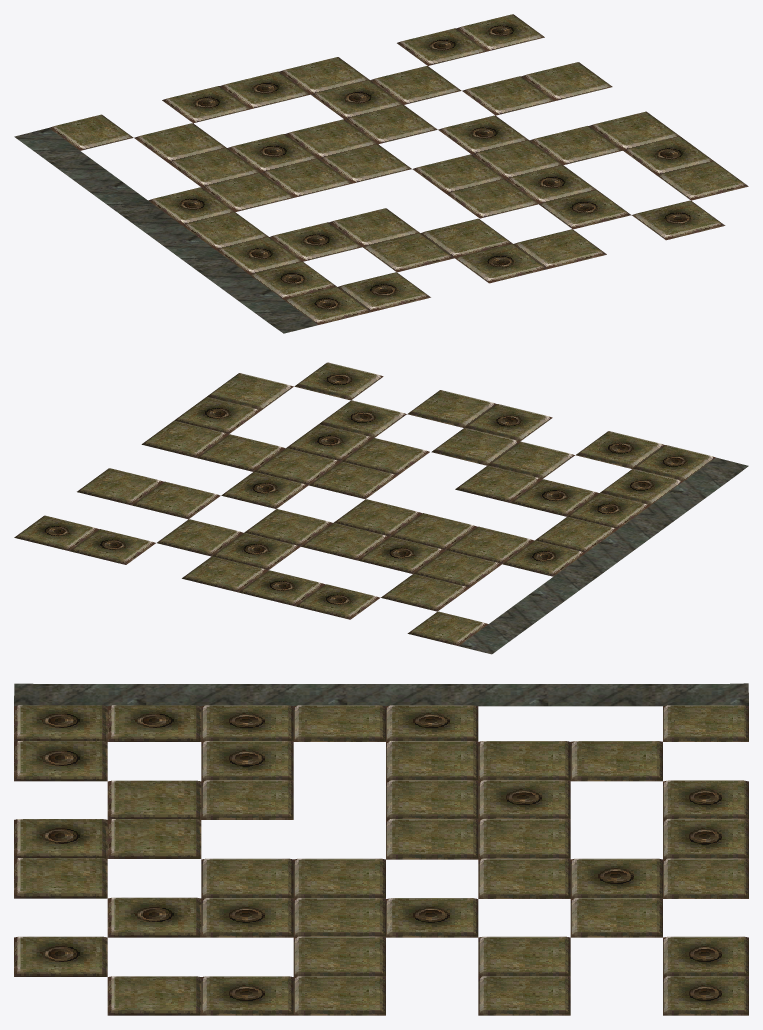
Rendered from DWARF_PALACE_EREBOR_PZL_TILE_SURFACE.fbx.
The picture shows the model from 3 angles, top to bottom: view 1: azimuth 30°, elevation 25°; view 2: azimuth 150°, elevation 25°; view 3: azimuth 270°, elevation 25°; orthographic projection. The views are drawn at different scales.
Visible parts, largest first — view 1: DWARF_PALACE_EREBOR_PZL_TILE_SURFACE; view 2: DWARF_PALACE_EREBOR_PZL_TILE_SURFACE; view 3: DWARF_PALACE_EREBOR_PZL_TILE_SURFACE.
Boxes of the visible parts, left/top/right/bottom form: DWARF_PALACE_EREBOR_PZL_TILE_SURFACE: left=14, top=14, right=748, bottom=333; DWARF_PALACE_EREBOR_PZL_TILE_SURFACE: left=14, top=362, right=748, bottom=654; DWARF_PALACE_EREBOR_PZL_TILE_SURFACE: left=14, top=683, right=748, bottom=1015.
Bounding box in the file's own units: 86009 × 453 × 80331.
3 materials, 3 textured.
